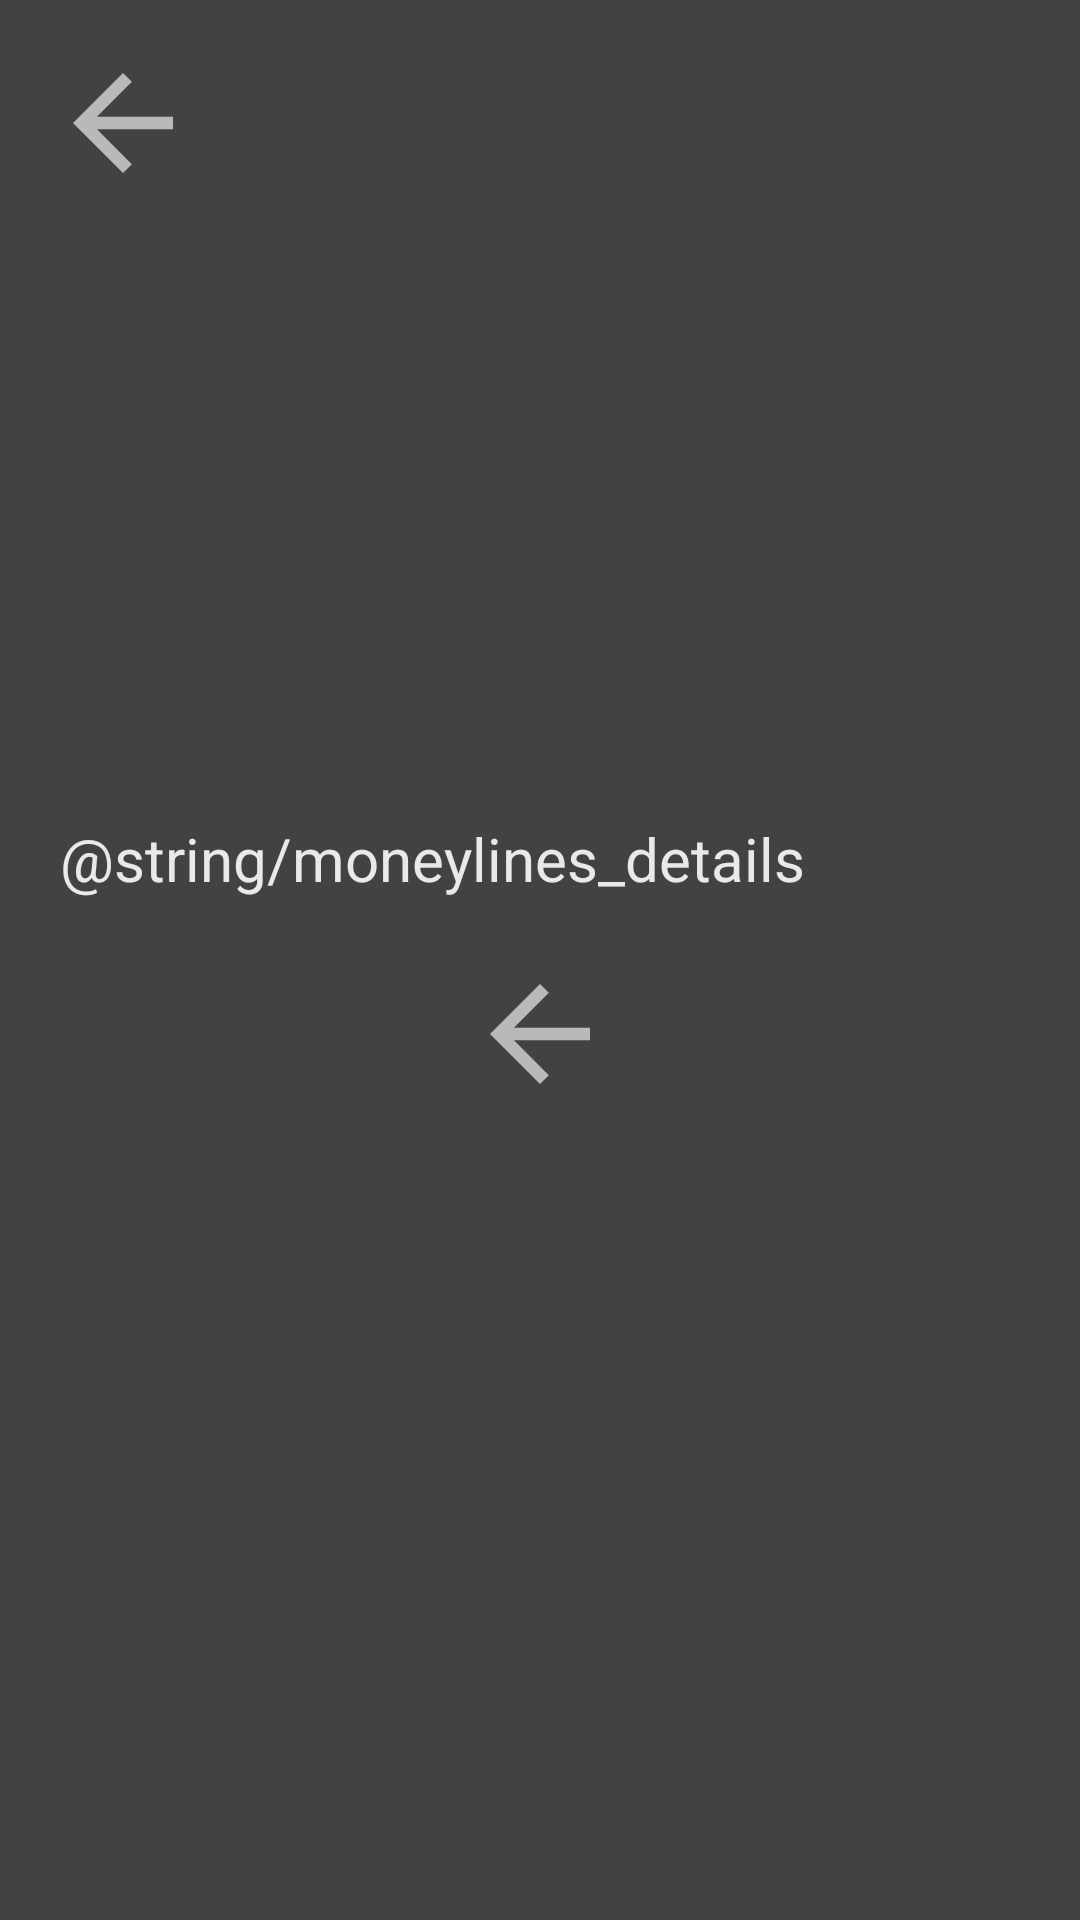

Icon click points for this 1080*1920 phone screenshot, format [x,y]:
arrow back: [123,123], [540,1034]
